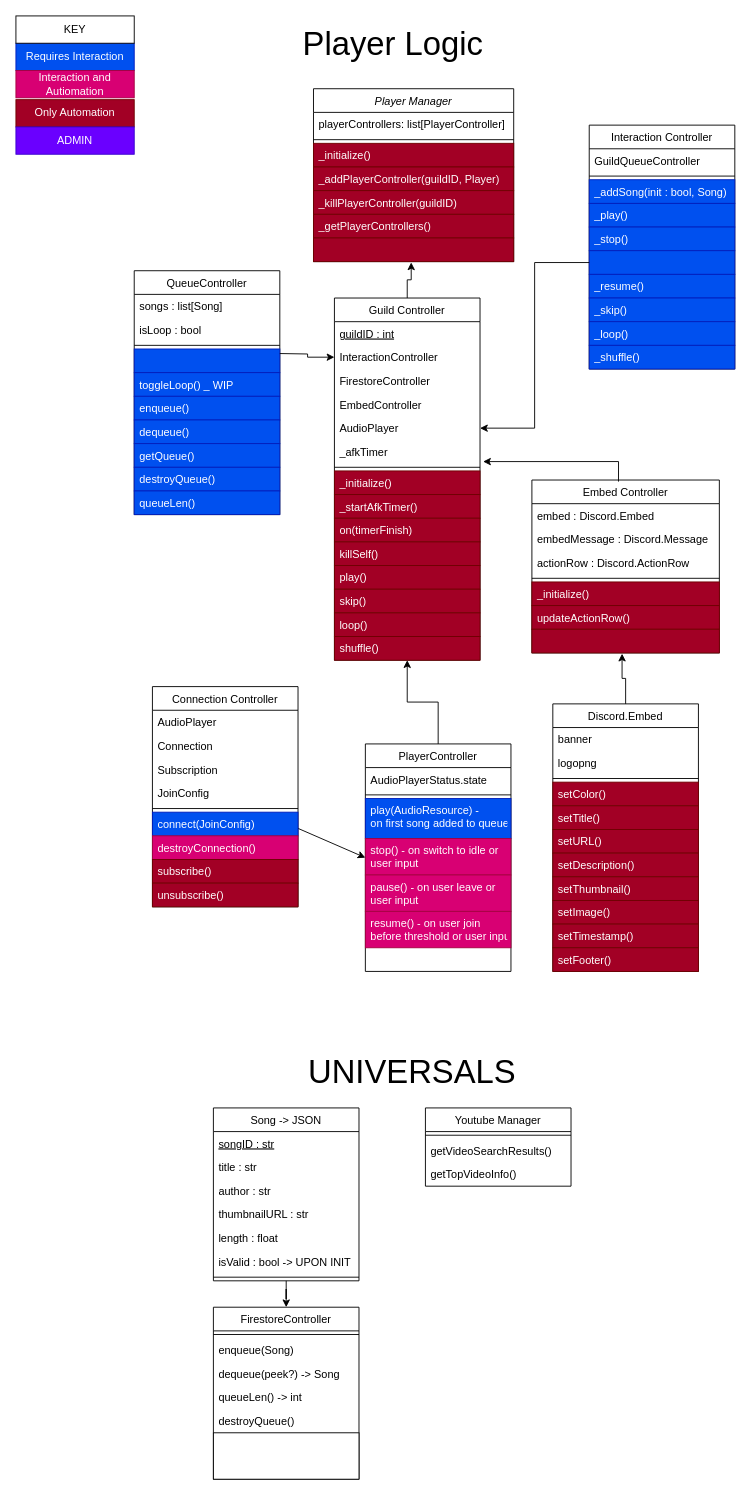
The diagram is 751 pixels wide and 1495 high, and some of its shapes have lost their labels. Here are the shapes that lost their labels. From the top down, the centre of each, then its label:
point (413, 249): _killAllPlayerControllers()
point (661, 262): _pause()
point (206, 360): shuffle() _ WIP
point (625, 640): updateEmbed()
point (285, 1455): NOTE: Methods must be given a guildID
